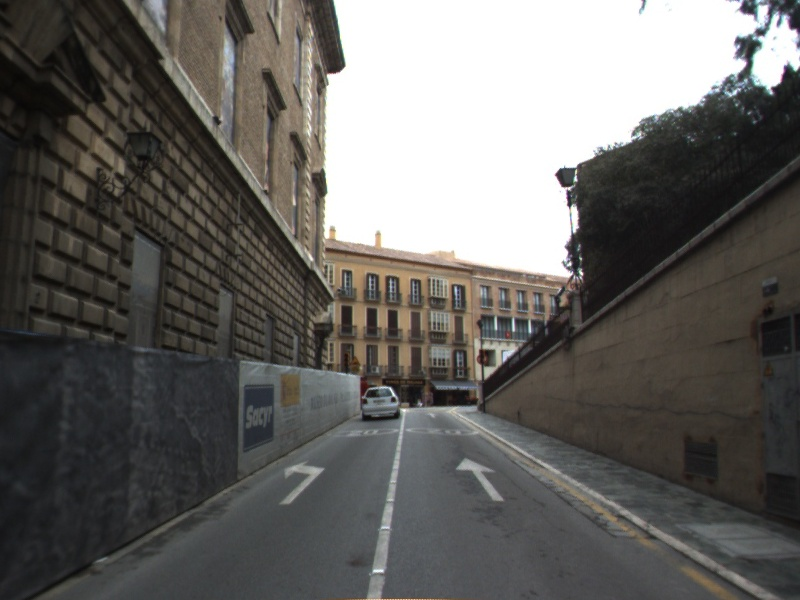LEFT: (277, 459, 327, 506)
STRAIGHT: (454, 455, 505, 503), (424, 411, 440, 420)
